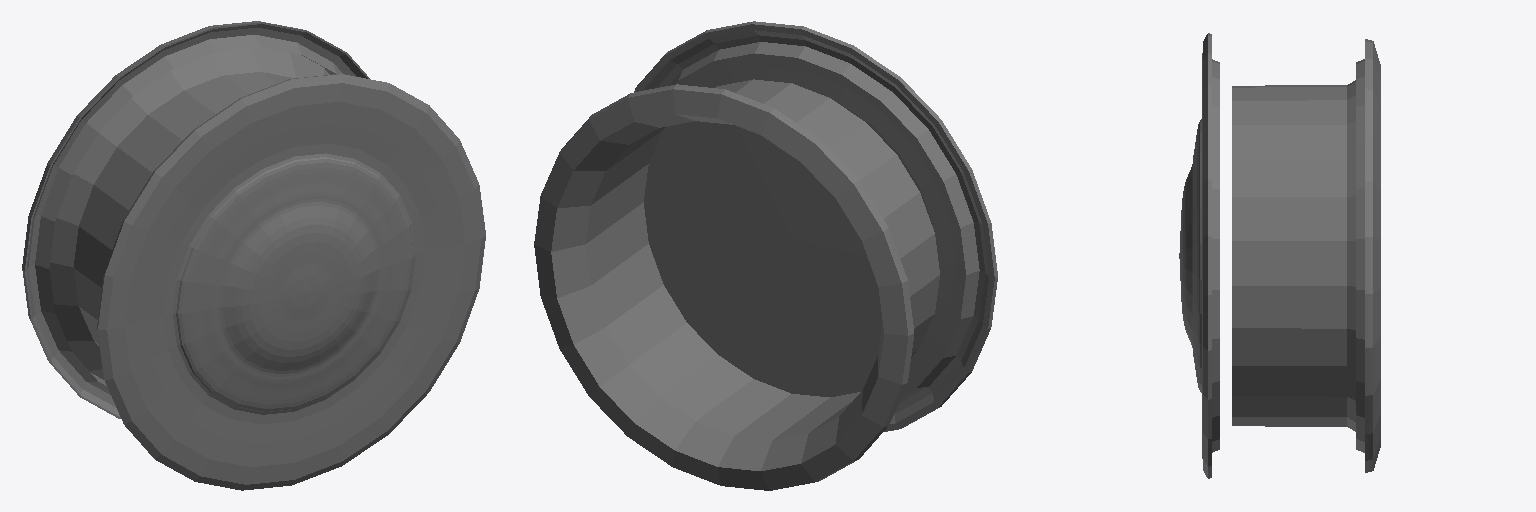
File: Rim.obj
3 renders of one model, left to right at view 1: azimuth 30°, elevation 25°; view 2: azimuth 150°, elevation 25°; view 3: azimuth 270°, elevation 25°, orthographic.
Parts seen in each view (by area): view 1: RimMesh; view 2: RimMesh; view 3: RimMesh.
Part boxes in pixels (x1,y1,x2,y2): RimMesh: (22,21,485,490); RimMesh: (534,21,997,490); RimMesh: (1179,33,1380,478).
Bounding box in the file's own units: 3.11 × 3.11 × 1.4.